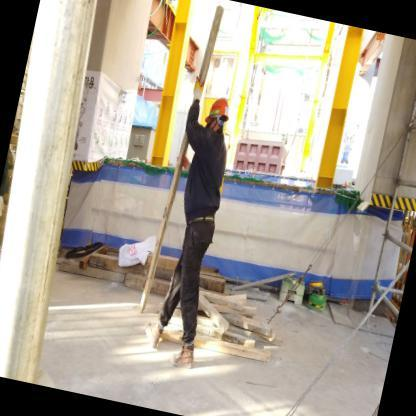safety-shoe: (164, 342, 199, 379), (133, 312, 165, 351)
